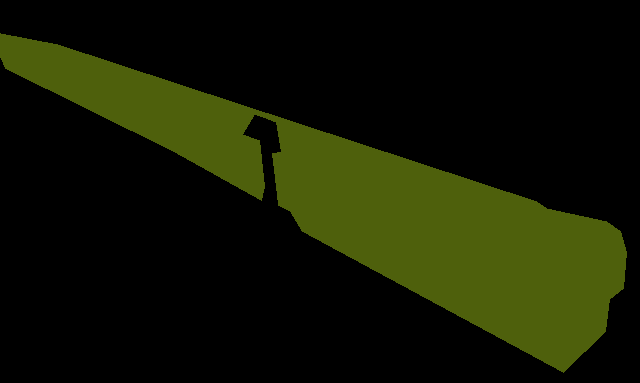Train: (0, 33, 626, 373)
